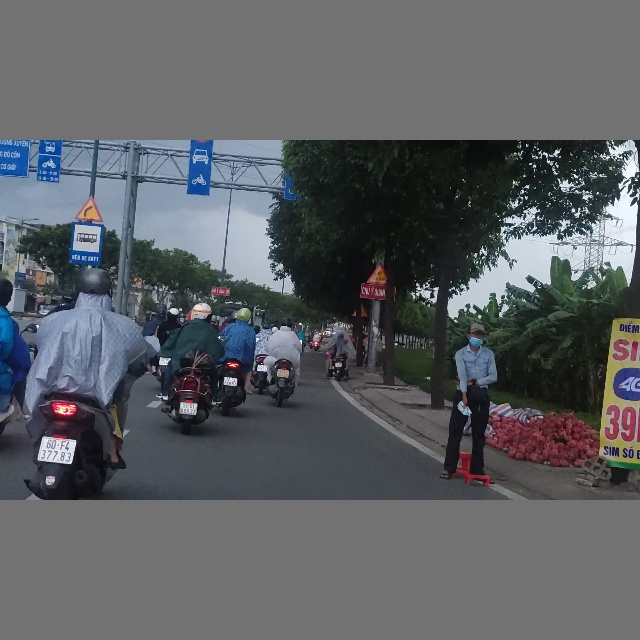I.434a: (71, 222, 103, 265)
W.201b: (74, 196, 103, 222)
W.245a: (366, 263, 391, 285)
